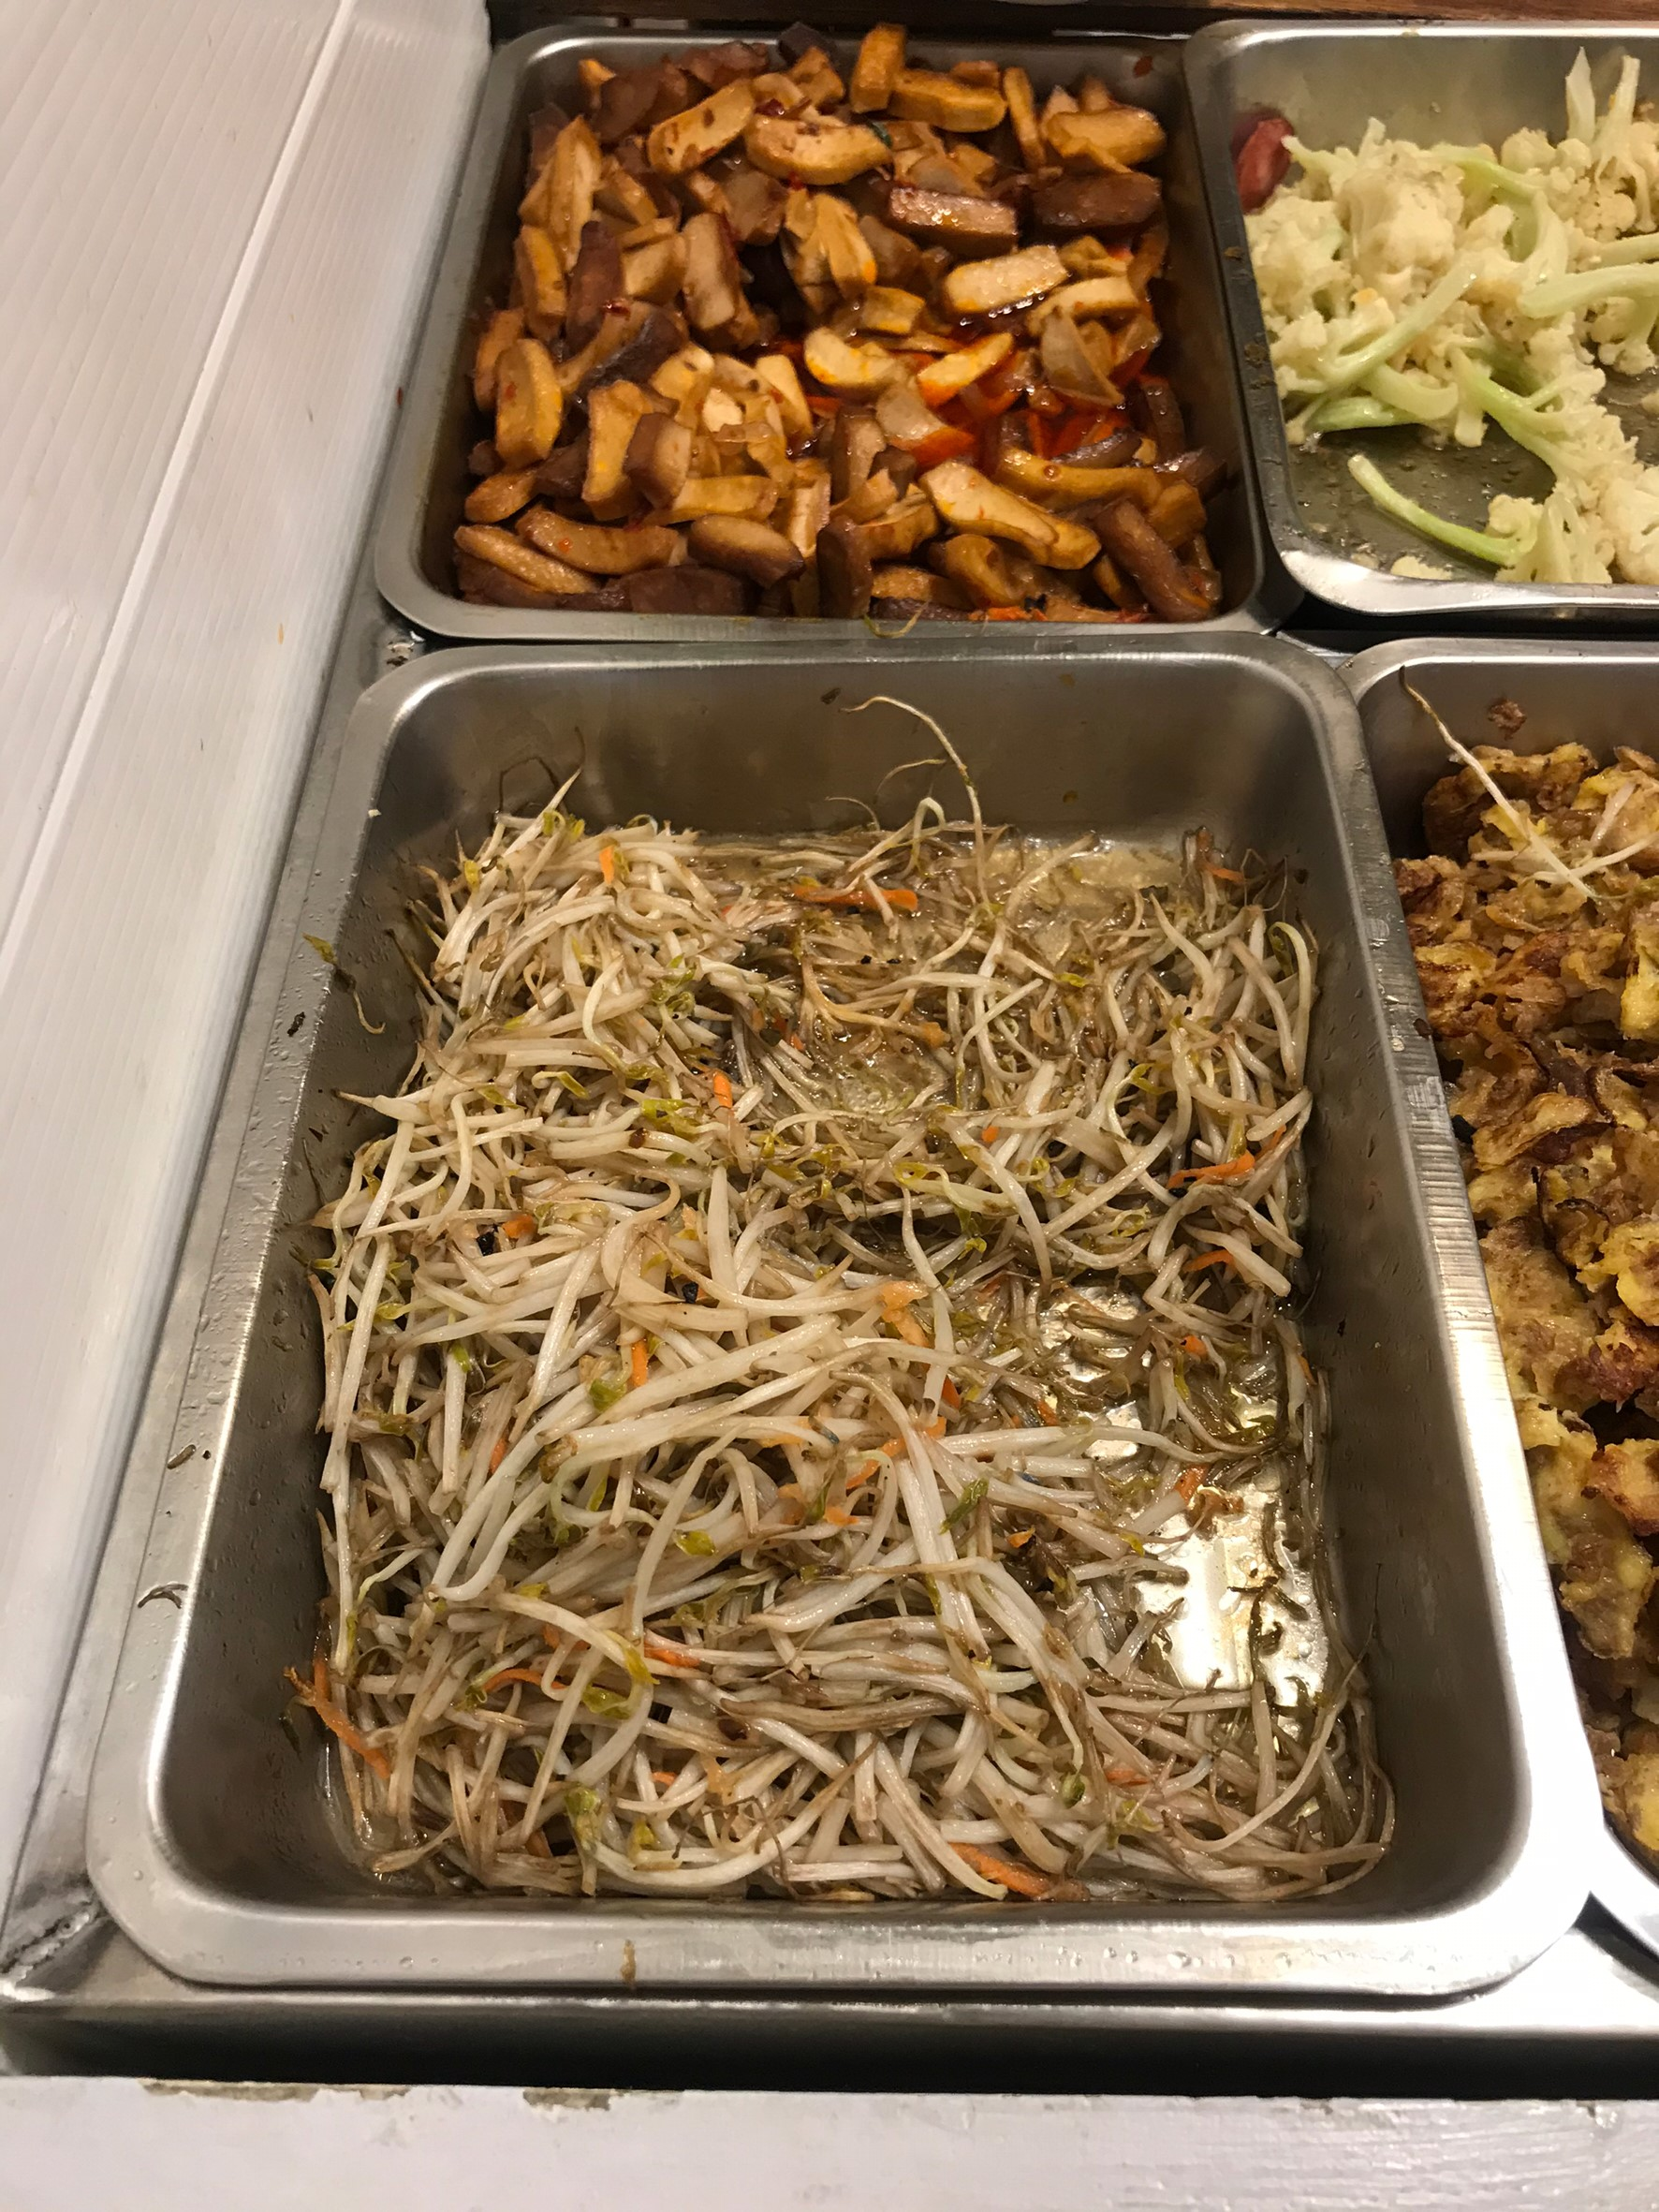mung_bean_sprouts: (324, 802, 1344, 1907)
